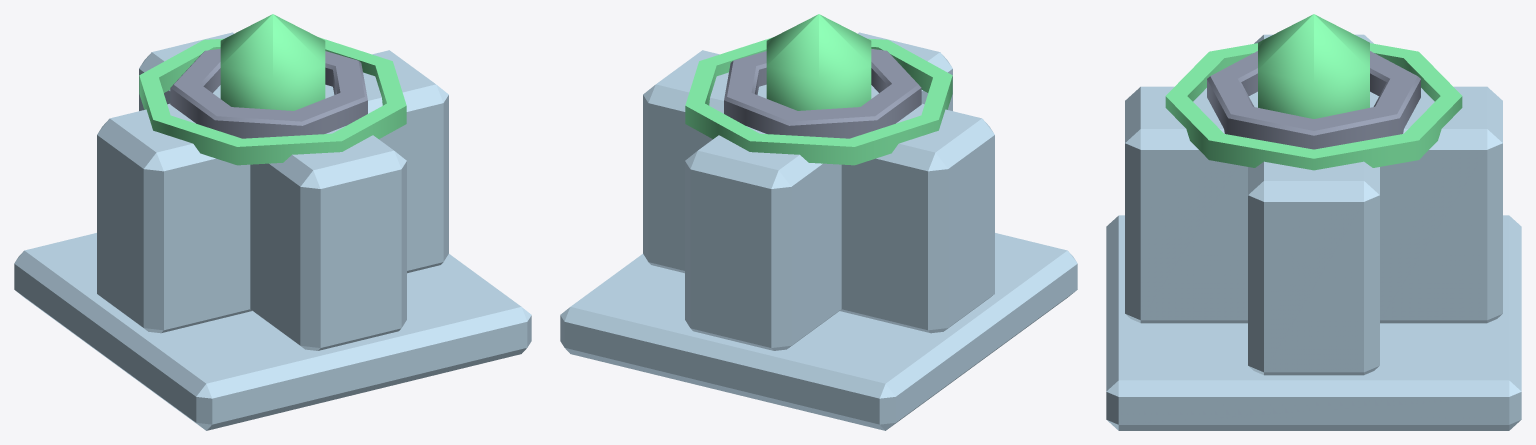
The model's file is R4X_RepairPulse_LOD1.glb.
3 views of the same model, side by side, from view 1: azimuth 30°, elevation 25°; view 2: azimuth 150°, elevation 25°; view 3: azimuth 270°, elevation 25° (orthographic). The views are drawn at different scales.
Parts seen in each view (by area): view 1: R4X_RepairPulse_LOD1; view 2: R4X_RepairPulse_LOD1; view 3: R4X_RepairPulse_LOD1.
Boxes of the visible parts, bbox=[...] form: R4X_RepairPulse_LOD1: bbox=[14, 14, 531, 430]; R4X_RepairPulse_LOD1: bbox=[560, 14, 1077, 430]; R4X_RepairPulse_LOD1: bbox=[1106, 14, 1521, 430].
Size of the model in its own units: 0.52 by 0.4619 by 0.52.
